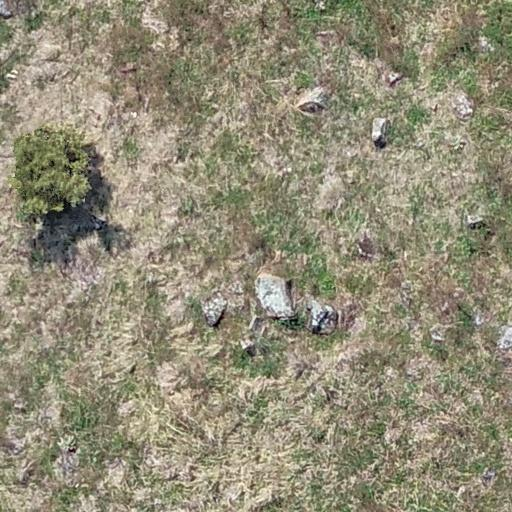stone: (304, 298, 338, 336), (294, 85, 330, 116), (200, 292, 228, 328), (104, 458, 130, 490), (368, 114, 392, 148), (464, 214, 490, 231), (384, 70, 404, 88)
